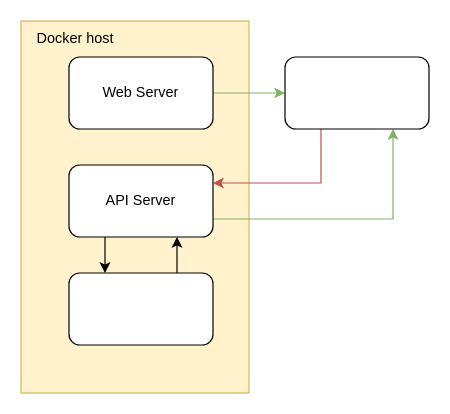
Image size: 450x414. Some labels were removed from this diagram. The box of each missing label's shape, as (x1, y1, x2, y2) in pixels:
Database: (68, 272, 213, 345)
JS Web App: (284, 56, 429, 129)
